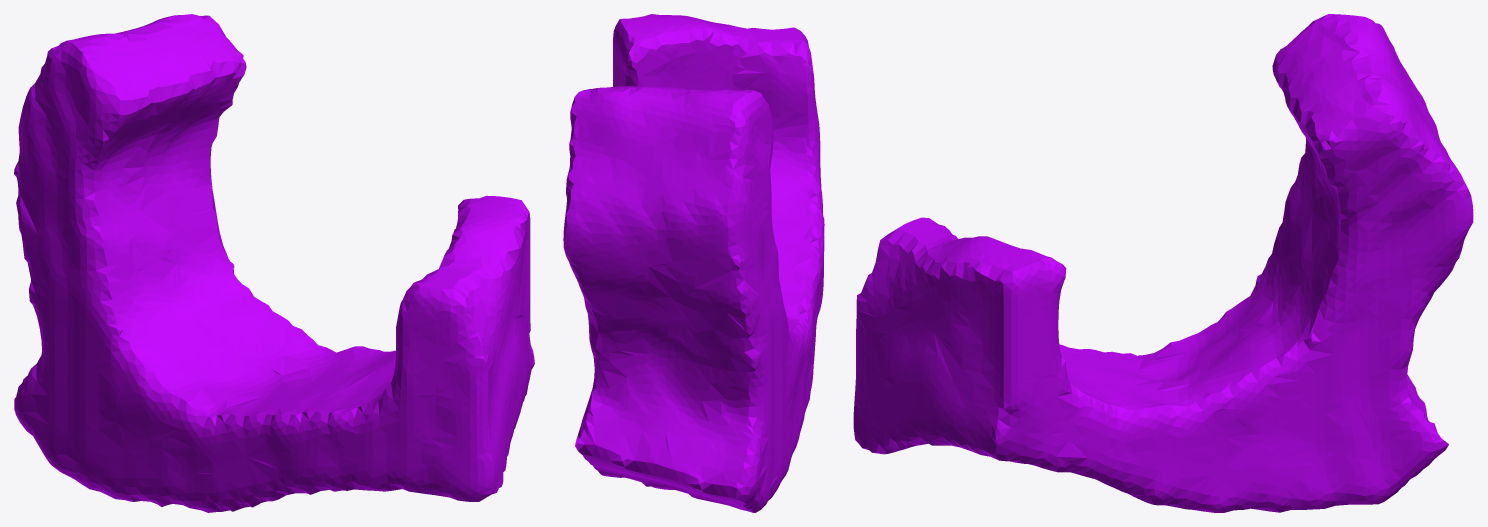
File: Model_10147_LH__Visual_area_4__transitional_part_(V4T).obj
3 views of the same model, side by side, from view 1: azimuth 30°, elevation 25°; view 2: azimuth 150°, elevation 25°; view 3: azimuth 270°, elevation 25° (orthographic). The views are drawn at different scales.
Size of the model in its own units: 3.55 by 4.42 by 5.58.
